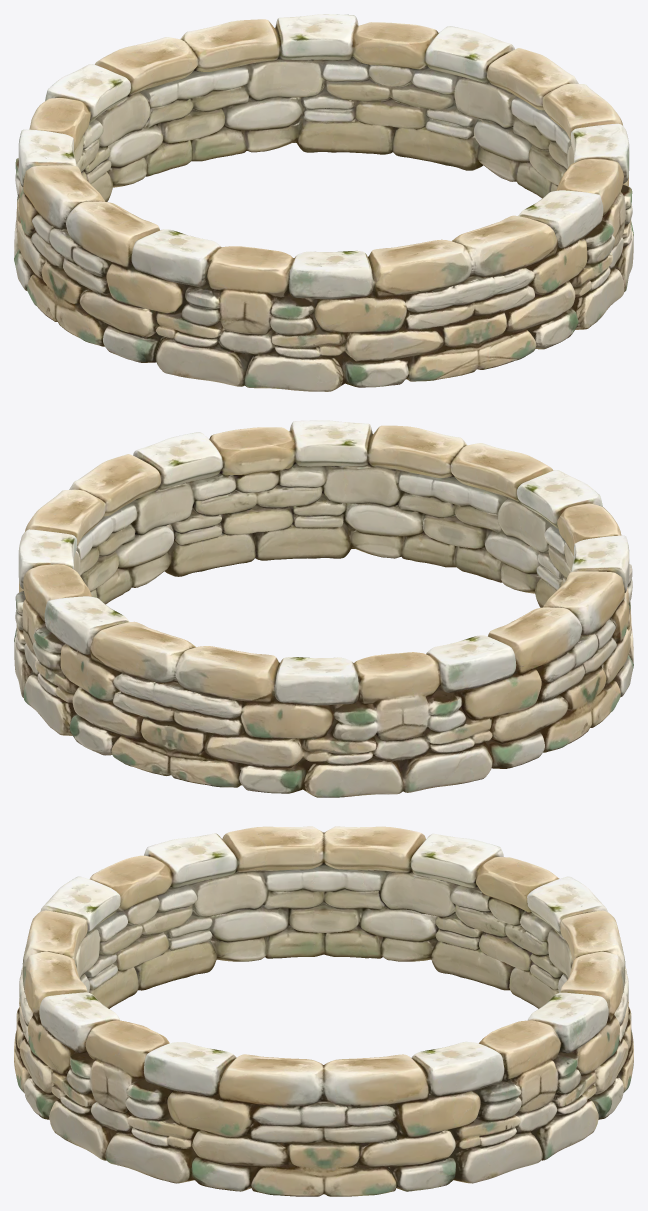
File: tree-ring.glb
3 renders of one model, top to bottom at view 1: azimuth 30°, elevation 25°; view 2: azimuth 150°, elevation 25°; view 3: azimuth 270°, elevation 25°, orthographic.
Size of the model in its own units: 1.9 by 0.4092 by 1.9.
Materials: 1 (1 with a texture image).
